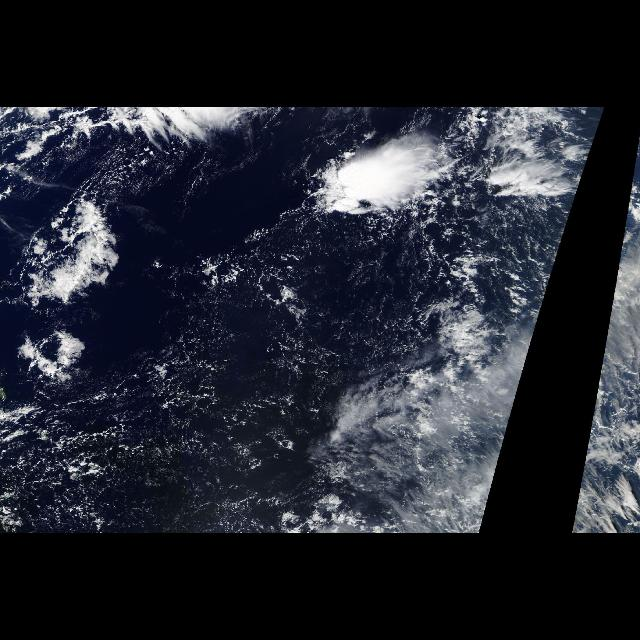Fish: (6, 190, 130, 310)
Gravel: (0, 249, 316, 533), (424, 192, 560, 300)
Sugar: (336, 391, 406, 475)
